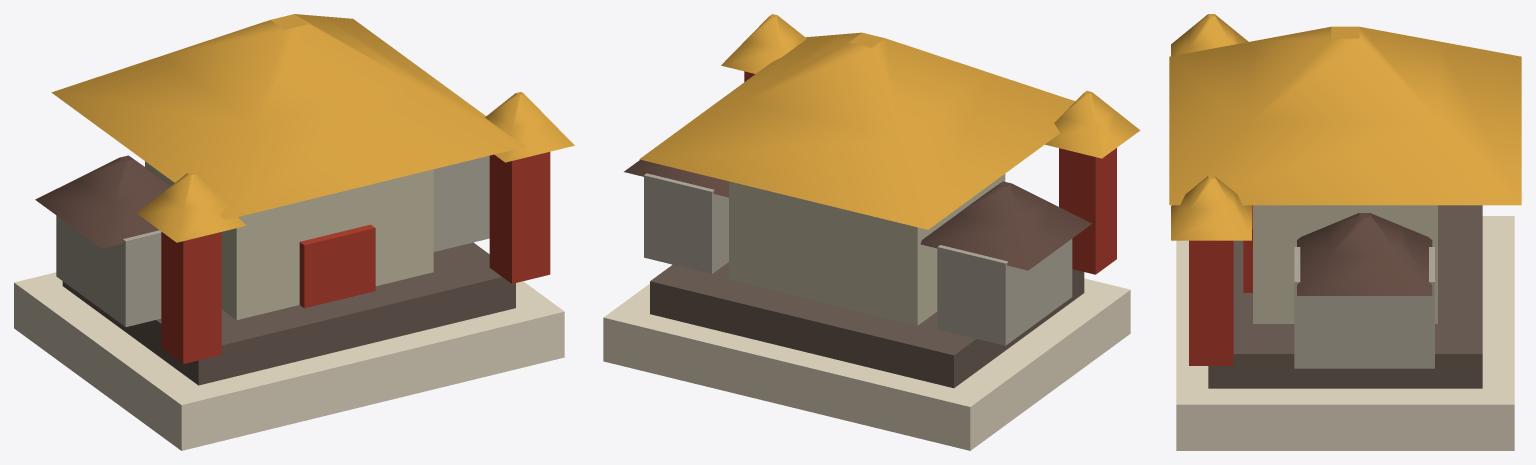
Rendered from wang_chao_di_du.glb.
3 renders of one model, left to right at view 1: azimuth 30°, elevation 25°; view 2: azimuth 150°, elevation 25°; view 3: azimuth 270°, elevation 25°, orthographic. The views are drawn at different scales.
Visible parts, largest first — view 1: _MeshInstance3D_128, _MeshInstance3D_125, _MeshInstance3D_126, _MeshInstance3D_127, _MeshInstance3D_129, _MeshInstance3D_135, _MeshInstance3D_131, _MeshInstance3D_130, _MeshInstance3D_137, _MeshInstance3D_133, _MeshInstance3D_132, _MeshInstance3D_136; view 2: _MeshInstance3D_128, _MeshInstance3D_125, _MeshInstance3D_127, _MeshInstance3D_126, _MeshInstance3D_129, _MeshInstance3D_130, _MeshInstance3D_133, _MeshInstance3D_131, _MeshInstance3D_132, _MeshInstance3D_136, _MeshInstance3D_134; view 3: _MeshInstance3D_128, _MeshInstance3D_125, _MeshInstance3D_126, _MeshInstance3D_133, _MeshInstance3D_134, _MeshInstance3D_127, _MeshInstance3D_135, _MeshInstance3D_136, _MeshInstance3D_132, _MeshInstance3D_137.
Boxes of the visible parts, x1=… form: _MeshInstance3D_128: x1=51, y1=14, x2=527, y2=219; _MeshInstance3D_125: x1=14, y1=272, x2=564, y2=450; _MeshInstance3D_126: x1=62, y1=242, x2=515, y2=385; _MeshInstance3D_127: x1=145, y1=161, x2=433, y2=320; _MeshInstance3D_129: x1=56, y1=215, x2=161, y2=326; _MeshInstance3D_135: x1=489, y1=152, x2=550, y2=283; _MeshInstance3D_131: x1=161, y1=232, x2=221, y2=363; _MeshInstance3D_130: x1=35, y1=155, x2=170, y2=248; _MeshInstance3D_137: x1=299, y1=224, x2=375, y2=308; _MeshInstance3D_133: x1=433, y1=155, x2=489, y2=251; _MeshInstance3D_132: x1=136, y1=172, x2=246, y2=242; _MeshInstance3D_136: x1=485, y1=92, x2=574, y2=162; _MeshInstance3D_128: x1=639, y1=32, x2=1075, y2=229; _MeshInstance3D_125: x1=603, y1=278, x2=1130, y2=450; _MeshInstance3D_127: x1=729, y1=174, x2=1005, y2=325; _MeshInstance3D_126: x1=650, y1=262, x2=1084, y2=388; _MeshInstance3D_129: x1=937, y1=239, x2=1072, y2=345; _MeshInstance3D_130: x1=920, y1=181, x2=1091, y2=270; _MeshInstance3D_133: x1=644, y1=173, x2=728, y2=273; _MeshInstance3D_131: x1=1059, y1=148, x2=1116, y2=274; _MeshInstance3D_132: x1=1045, y1=91, x2=1140, y2=158; _MeshInstance3D_136: x1=721, y1=14, x2=806, y2=73; _MeshInstance3D_134: x1=624, y1=159, x2=728, y2=197; _MeshInstance3D_128: x1=1169, y1=26, x2=1521, y2=205; _MeshInstance3D_125: x1=1176, y1=216, x2=1514, y2=450; _MeshInstance3D_126: x1=1208, y1=205, x2=1482, y2=388; _MeshInstance3D_133: x1=1294, y1=247, x2=1434, y2=368; _MeshInstance3D_134: x1=1297, y1=213, x2=1432, y2=295; _MeshInstance3D_127: x1=1253, y1=205, x2=1437, y2=323; _MeshInstance3D_135: x1=1189, y1=240, x2=1233, y2=365; _MeshInstance3D_136: x1=1171, y1=176, x2=1251, y2=240; _MeshInstance3D_132: x1=1171, y1=14, x2=1248, y2=56; _MeshInstance3D_137: x1=1243, y1=205, x2=1252, y2=292.
Bounding box in the file's own units: 1.54 × 1.12 × 1.1.
